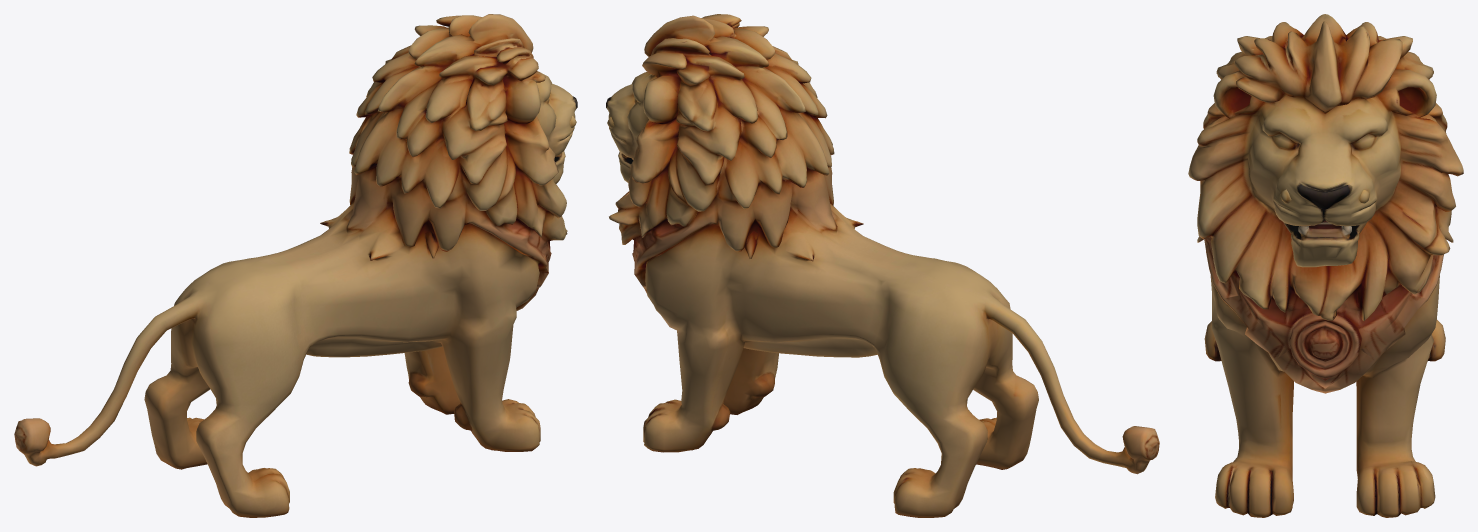
The model's file is lion.glb.
3 renders of one model, left to right at view 1: azimuth 30°, elevation 25°; view 2: azimuth 150°, elevation 25°; view 3: azimuth 270°, elevation 25°, orthographic. The views are drawn at different scales.
Visible parts, largest first — view 1: tripo_node_30666041-0acf-4cfe-af35-a013e7b0d330; view 2: tripo_node_30666041-0acf-4cfe-af35-a013e7b0d330; view 3: tripo_node_30666041-0acf-4cfe-af35-a013e7b0d330.
Boxes of the visible parts, box(x1,y1,x2,y2) form: tripo_node_30666041-0acf-4cfe-af35-a013e7b0d330: box(14, 14, 577, 517); tripo_node_30666041-0acf-4cfe-af35-a013e7b0d330: box(606, 14, 1159, 517); tripo_node_30666041-0acf-4cfe-af35-a013e7b0d330: box(1188, 14, 1463, 517).
Size of the model in its own units: 0.3549 by 0.25 by 0.1285.
1 material, 1 textured.
